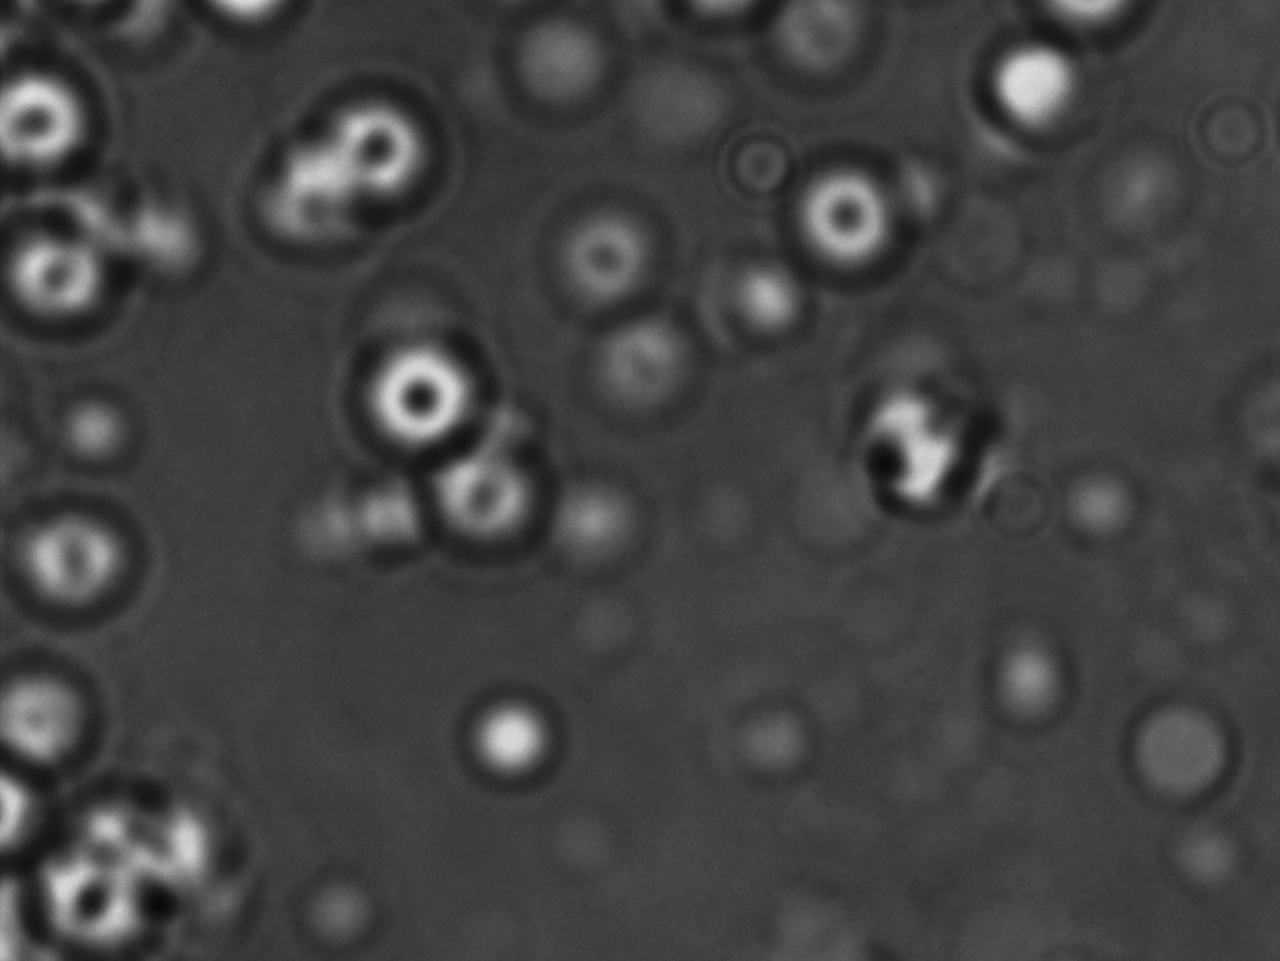depth:32: (2, 489, 149, 640), (316, 83, 461, 223), (351, 317, 488, 466), (785, 157, 906, 284)
